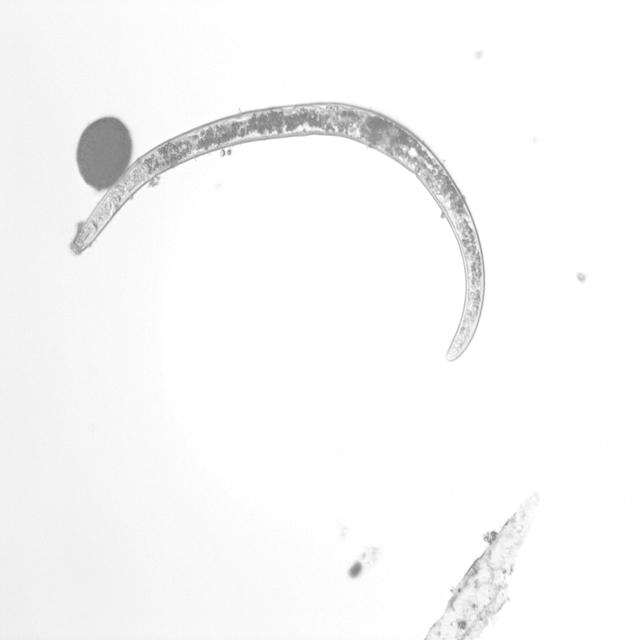Helicotylenchus: (66, 96, 492, 362)
